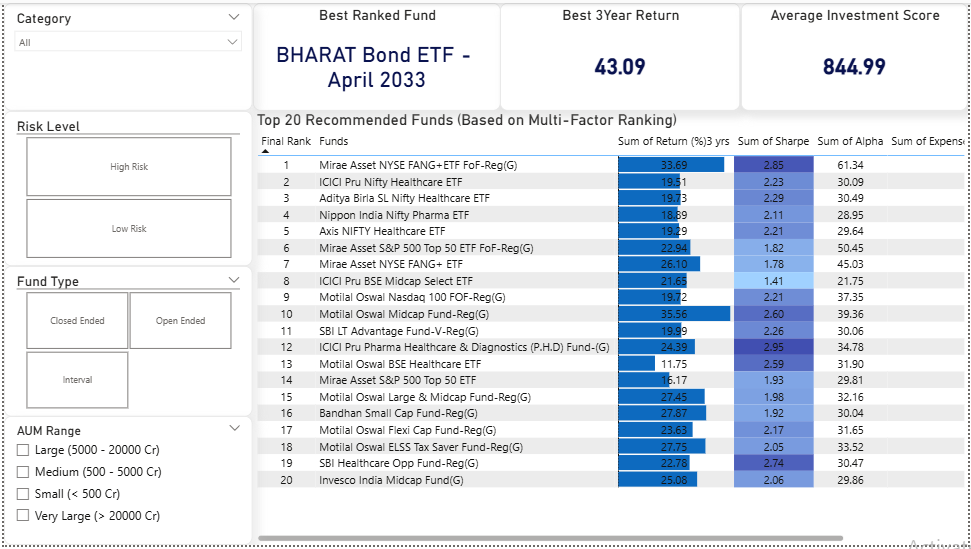

The dashboard page shown, as its layout file describes it:
{"tool":"powerbi","page":{"name":"Ranking & Investment_Insights_Dashboard","canvas":[1280,720],"ordinal":4},"visuals":[{"type":"tableEx","title":"Top 20 Recommended Funds (Based on Multi-Factor Ranking)","fields":{"Values":["cleaned_mutualfund_dataset.Final Rank","cleaned_mutualfund_dataset.Funds","Sum(cleaned_mutualfund_dataset.Return (%)3 yrs)","Sum(cleaned_mutualfund_dataset.Sharpe)","Sum(cleaned_mutualfund_dataset.Alpha)","Sum(cleaned_mutualfund_dataset.ExpenseRatio (%))","cleaned_mutualfund_dataset.Investment Score"]},"box":[330.3,143.1,949.7,576.7],"z":0},{"type":"card","title":"Best Ranked Fund","fields":{"Values":["cleaned_mutualfund_dataset.Best Ranked Fund"]},"box":[330.3,0,328.9,143.1],"z":1000},{"type":"actionButton","box":[0,0,100,40],"z":2000},{"type":"slicer","fields":{"Values":["cleaned_mutualfund_dataset.Category"]},"box":[0,0,330.3,143.1],"z":3000},{"type":"slicer","fields":{"Values":["cleaned_mutualfund_dataset.Risk Level"]},"box":[0,143.1,330.3,206.5],"z":4000},{"type":"slicer","fields":{"Values":["cleaned_mutualfund_dataset.Fund Type"]},"box":[0,349.6,330.3,199.6],"z":5000},{"type":"slicer","fields":{"Values":["cleaned_mutualfund_dataset.AUM Range"]},"box":[0,549.2,330.3,170.7],"z":6000},{"type":"card","title":"Best 3Year Return","fields":{"Values":["cleaned_mutualfund_dataset.Best 3Y Return"]},"box":[659.3,0,319.3,143.1],"z":7000},{"type":"card","title":"Average Investment Score","fields":{"Values":["cleaned_mutualfund_dataset.Avg Investment Score"]},"box":[978.6,0,301.4,143.1],"z":8000}]}

Visuals, with their boxes in screenshot pixels (x1, y1, x2, y2), scaled from the page's 1280x720 canvas onto the 971x549 screenshot:
"Top 20 Recommended Funds (Based on Multi-Factor Ranking)" tableEx: detection(251, 109, 970, 548)
"Best Ranked Fund" card: detection(251, 0, 500, 109)
actionButton: detection(0, 0, 76, 30)
slicer - cleaned_mutualfund_dataset.Category: detection(0, 0, 251, 109)
slicer - cleaned_mutualfund_dataset.Risk Level: detection(0, 109, 251, 267)
slicer - cleaned_mutualfund_dataset.Fund Type: detection(0, 267, 251, 419)
slicer - cleaned_mutualfund_dataset.AUM Range: detection(0, 419, 251, 548)
"Best 3Year Return" card: detection(500, 0, 742, 109)
"Average Investment Score" card: detection(742, 0, 970, 109)
